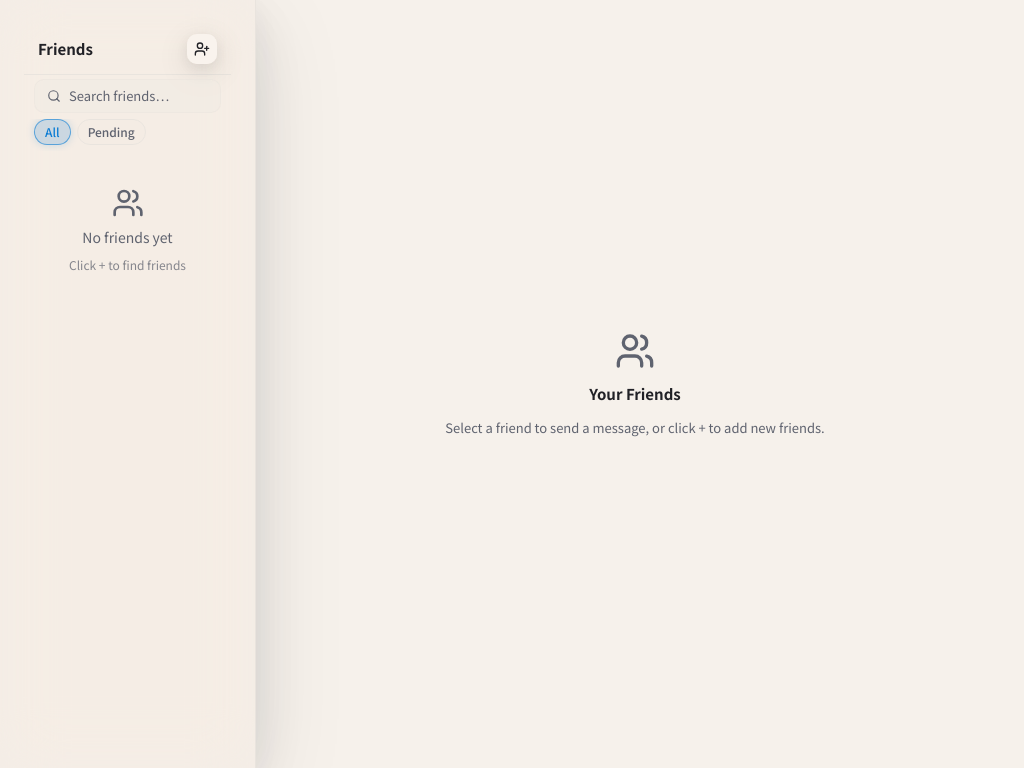
Scenario: TC-F-04: Search results render UserCard › shows user card with name and add-friend button after typing
Open AddFriendModal — user search is now behind the modal
Click the button named "add friend": [202, 49] box [187,34,217,64]
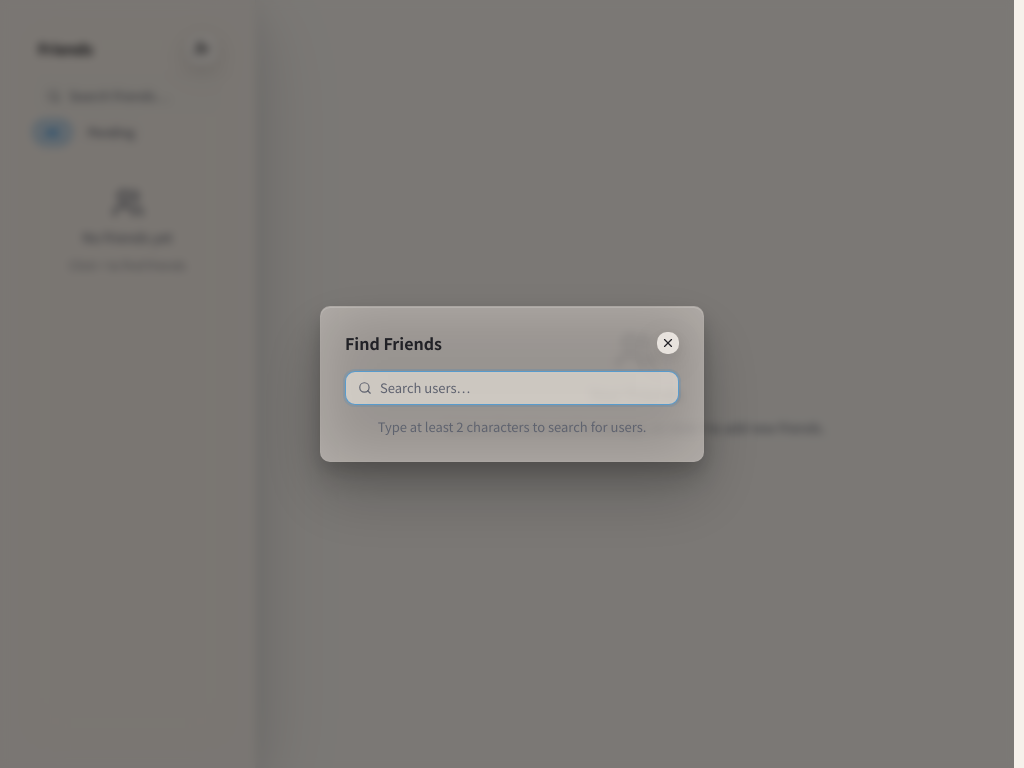
In the search field with placeholder "Search users…": [523, 388] box [380,378,666,398], type "Bob"
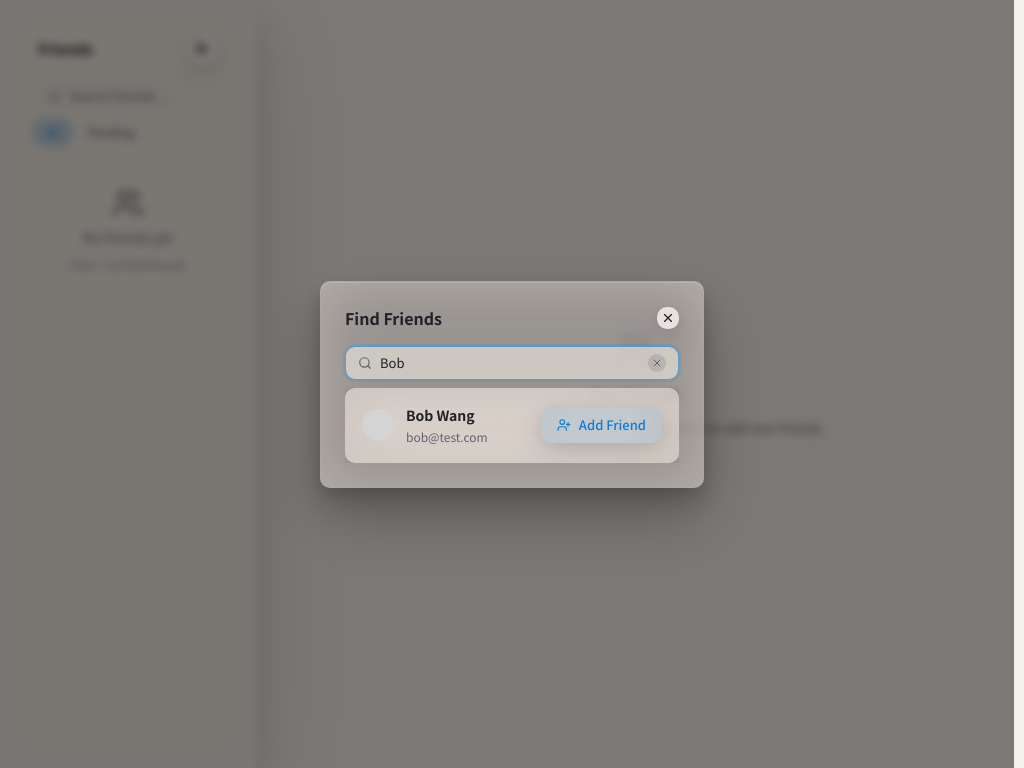
Now the element with test id "user-card-user-bob" is shown, box [345,388,679,462]
Now the text "Bob Wang" is shown, box [406,404,475,424]
Now the button "Add Friend" is shown, box [541,407,662,443]
